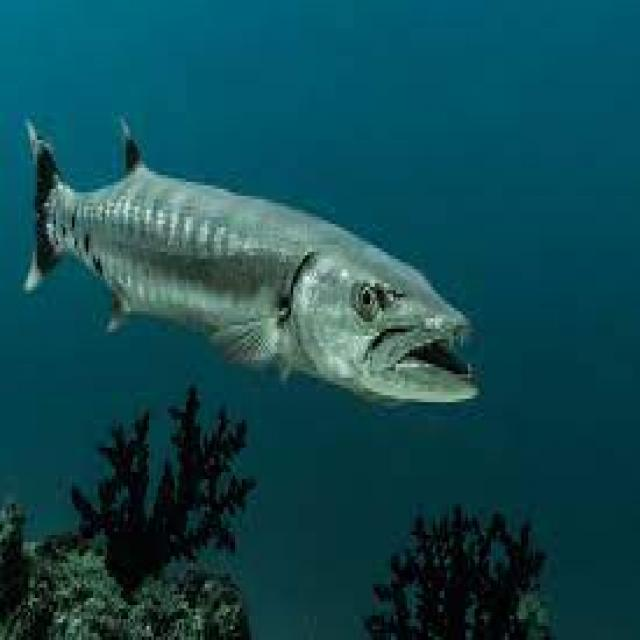Barracuda: (19, 108, 484, 416)
